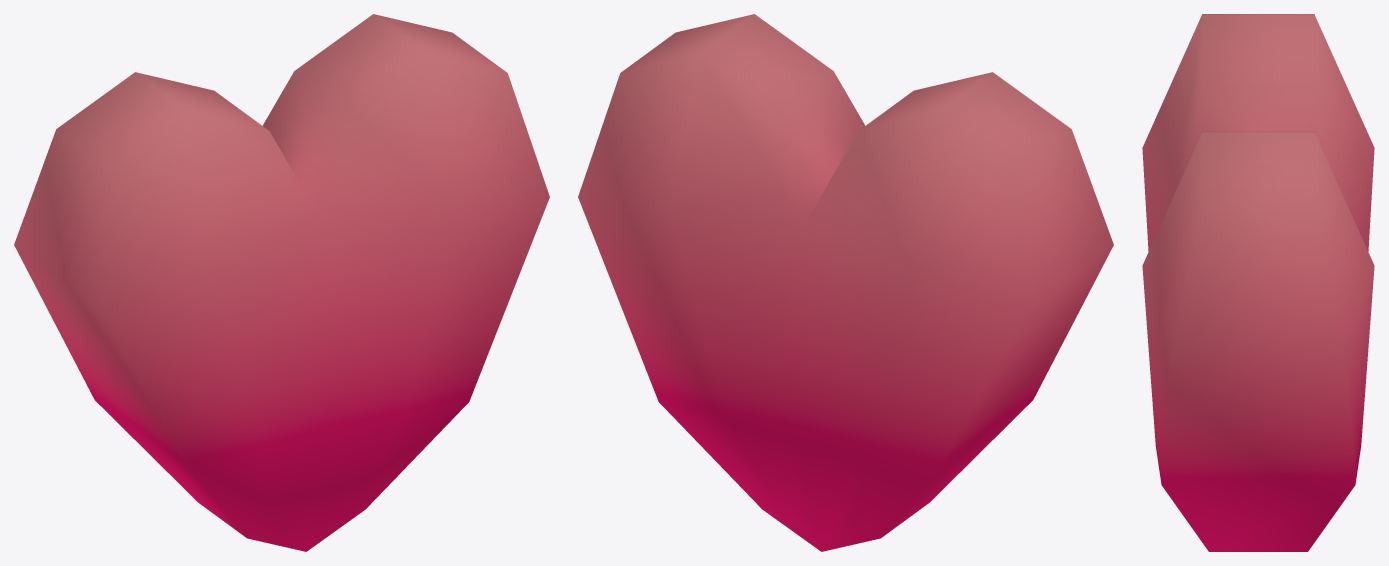
File: Heart.glb
3 views of the same model, side by side, from view 1: azimuth 30°, elevation 25°; view 2: azimuth 150°, elevation 25°; view 3: azimuth 270°, elevation 25° (orthographic).
Visible parts, largest first — view 1: QuickHeart; view 2: QuickHeart; view 3: QuickHeart.
Boxes of the visible parts, bbox=[...] form: QuickHeart: bbox=[14, 14, 549, 551]; QuickHeart: bbox=[578, 14, 1113, 551]; QuickHeart: bbox=[1142, 14, 1374, 551].
Size of the model in its own units: 1.89 by 1.89 by 0.8327.
Materials: 1 (1 with a texture image).
